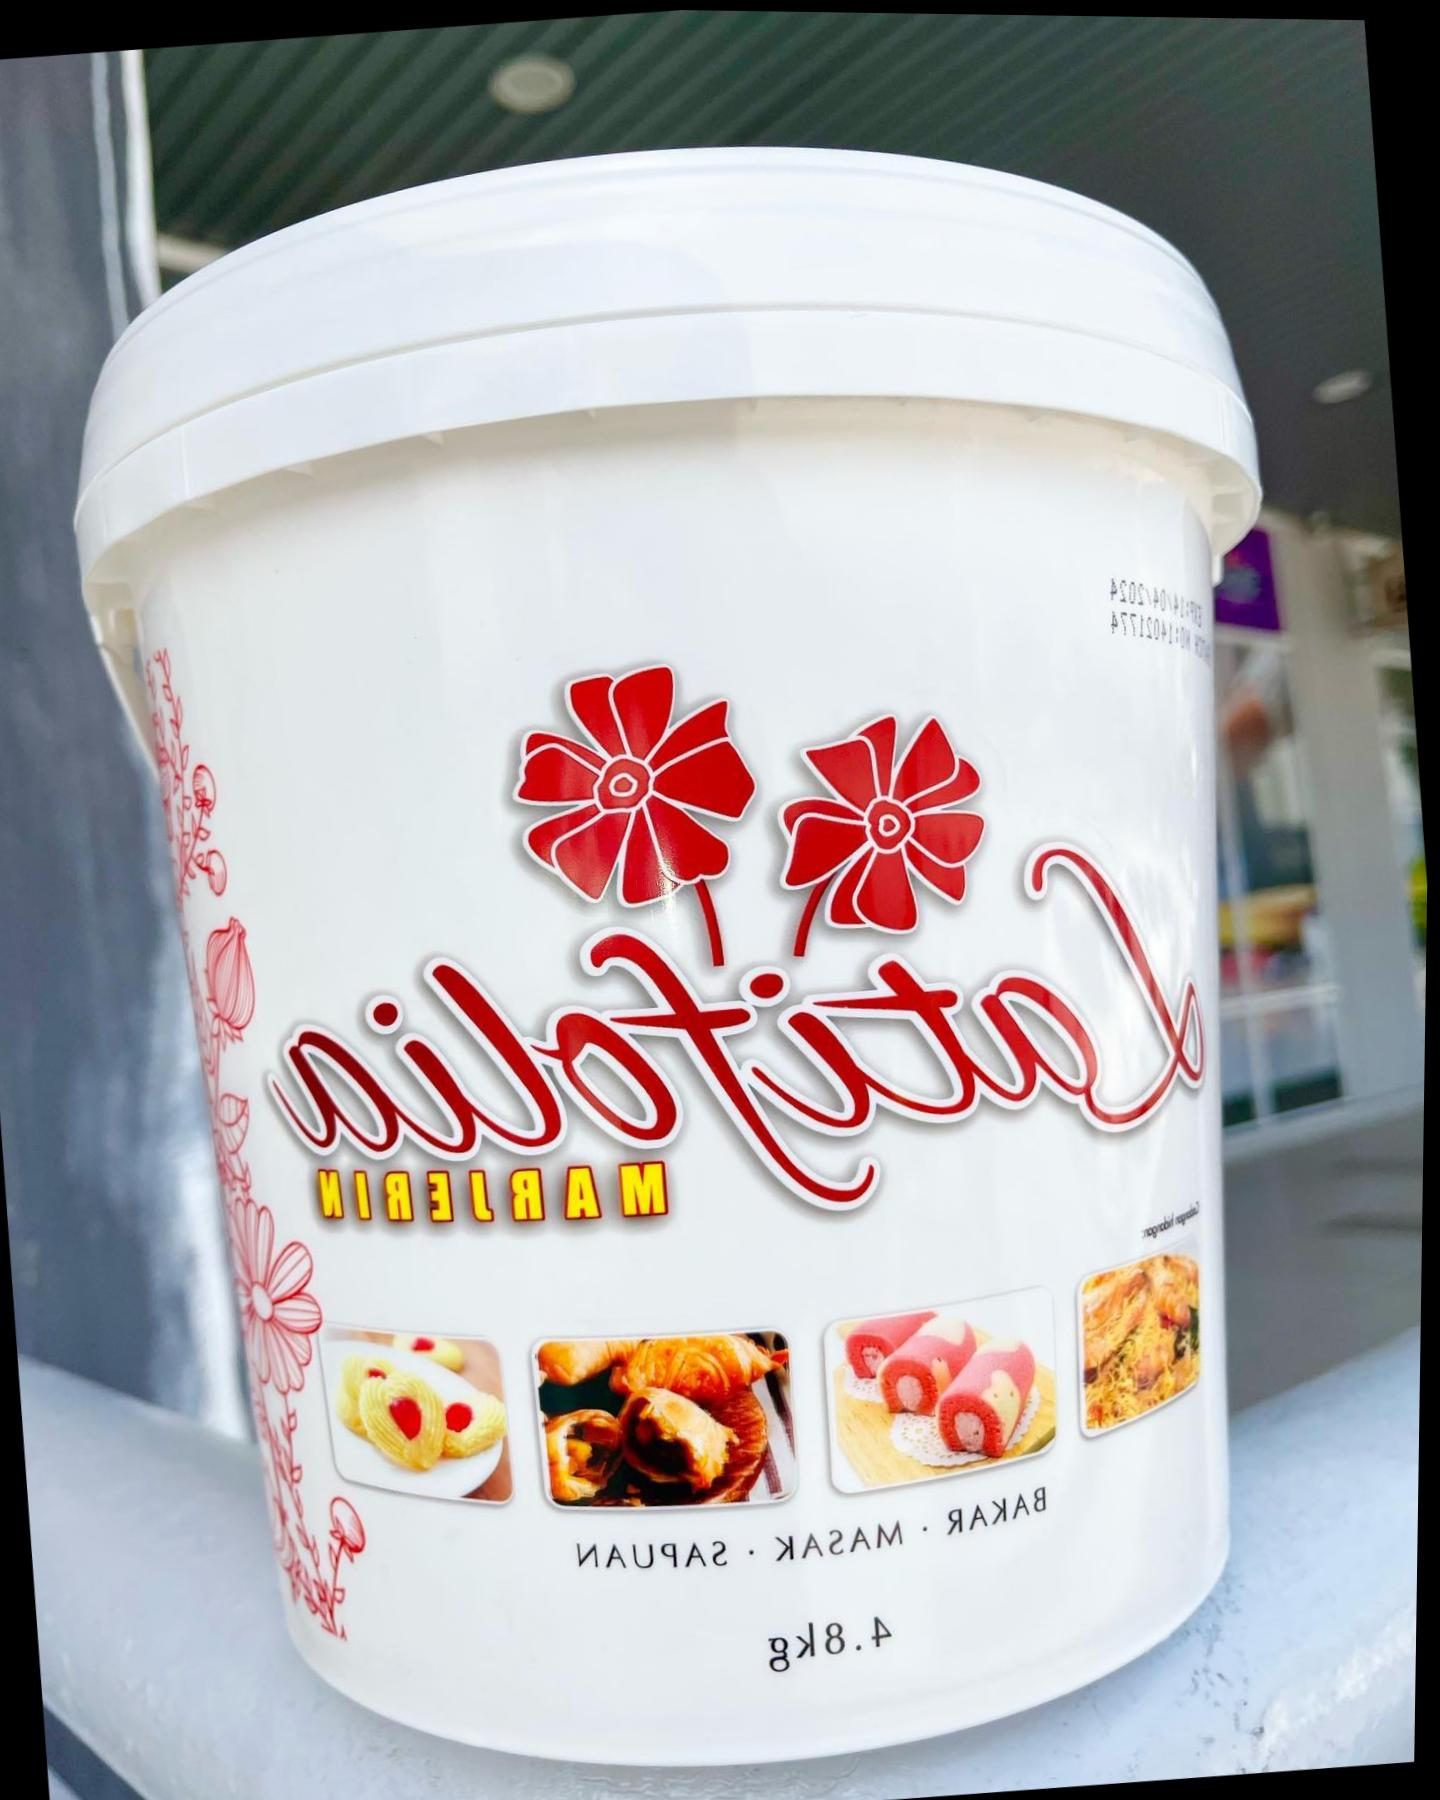plastic: (31, 85, 1377, 1800)
